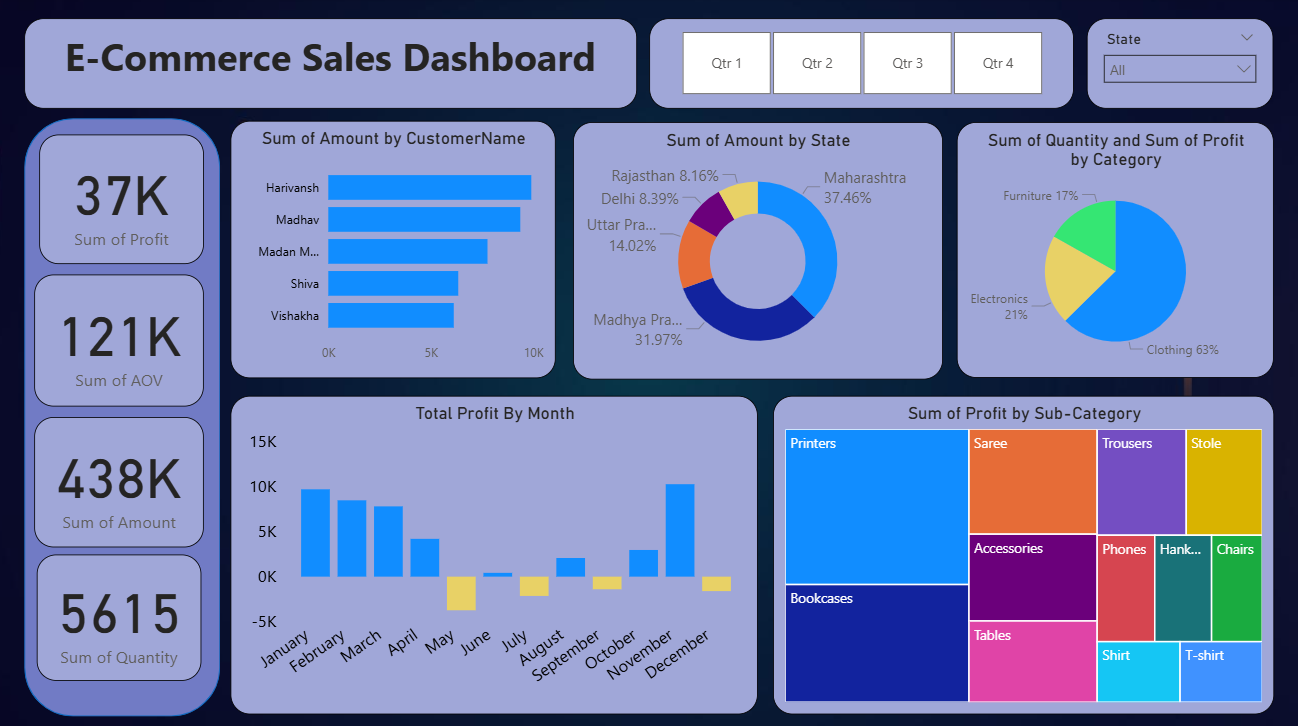

This screenshot's page, from the dashboard's own definition file:
{"tool":"powerbi","page":{"name":"Page 1","canvas":[1280,720],"ordinal":0},"visuals":[{"type":"clusteredColumnChart","title":"Total Profit By Month","fields":{"Category":["Orders (1).Order Date.Variation.Date Hierarchy.Month"],"Y":["Details.Profit"]},"box":[228.2,391,517.9,312.8],"z":0},{"type":"pieChart","fields":{"Category":["Details.Category"],"Y":["Details.Quantity"]},"box":[941,123.1,311.5,251.3],"z":1000},{"type":"treemap","fields":{"Group":["Details.Sub-Category"],"Values":["Details.Profit"]},"box":[760.3,391,492.3,312.8],"z":2000},{"type":"donutChart","fields":{"Category":["Orders (1).State"],"Y":["Details.Amount"]},"box":[564.1,123.1,362.8,252.6],"z":3000},{"type":"clusteredBarChart","fields":{"Category":["Orders (1).CustomerName"],"Y":["Details.Amount"]},"box":[228.2,121.8,319.2,252.6],"z":4000},{"type":"shape","box":[25.6,119.2,192.3,587.2],"z":6000},{"type":"card","fields":{"Values":["Details.Profit"]},"box":[41,134.6,161.5,126.9],"z":7000},{"type":"card","fields":{"Values":["Details.Amount"]},"box":[35.9,412.8,166.7,128.2],"z":8000},{"type":"card","fields":{"Values":["Details.AOV"]},"box":[35.9,271.8,166.7,129.5],"z":9000},{"type":"card","fields":{"Values":["Details.Quantity"]},"box":[38.5,547.4,161.5,124.4],"z":10000},{"type":"slicer","fields":{"Values":["Orders (1).State"]},"box":[1069.2,20.5,183.3,88.5],"z":11000},{"type":"textbox","box":[25.6,20.5,601.3,88.5],"z":12000},{"type":"slicer","fields":{"Values":["Orders (1).Order Date.Variation.Date Hierarchy.Quarter"]},"box":[639.7,20.5,416.7,88.5],"z":12001}]}

Visuals, with their boxes in screenshot pixels (x1, y1, x2, y2), scaled from the page's 1280x720 canvas onto the 1298x726 screenshot:
"Total Profit By Month" clusteredColumnChart: 231/394/757/710
pieChart - Details.Category x Details.Quantity: 954/124/1270/378
treemap - Details.Sub-Category x Details.Profit: 771/394/1270/710
donutChart - Orders (1).State x Details.Amount: 572/124/940/379
clusteredBarChart - Orders (1).CustomerName x Details.Amount: 231/123/555/378
shape: 26/120/221/712
card - Details.Profit: 42/136/205/264
card - Details.Amount: 36/416/205/546
card - Details.AOV: 36/274/205/405
card - Details.Quantity: 39/552/203/677
slicer - Orders (1).State: 1084/21/1270/110
textbox: 26/21/636/110
slicer - Orders (1).Order Date.Variation.Date Hierarchy.Quarter: 649/21/1071/110
